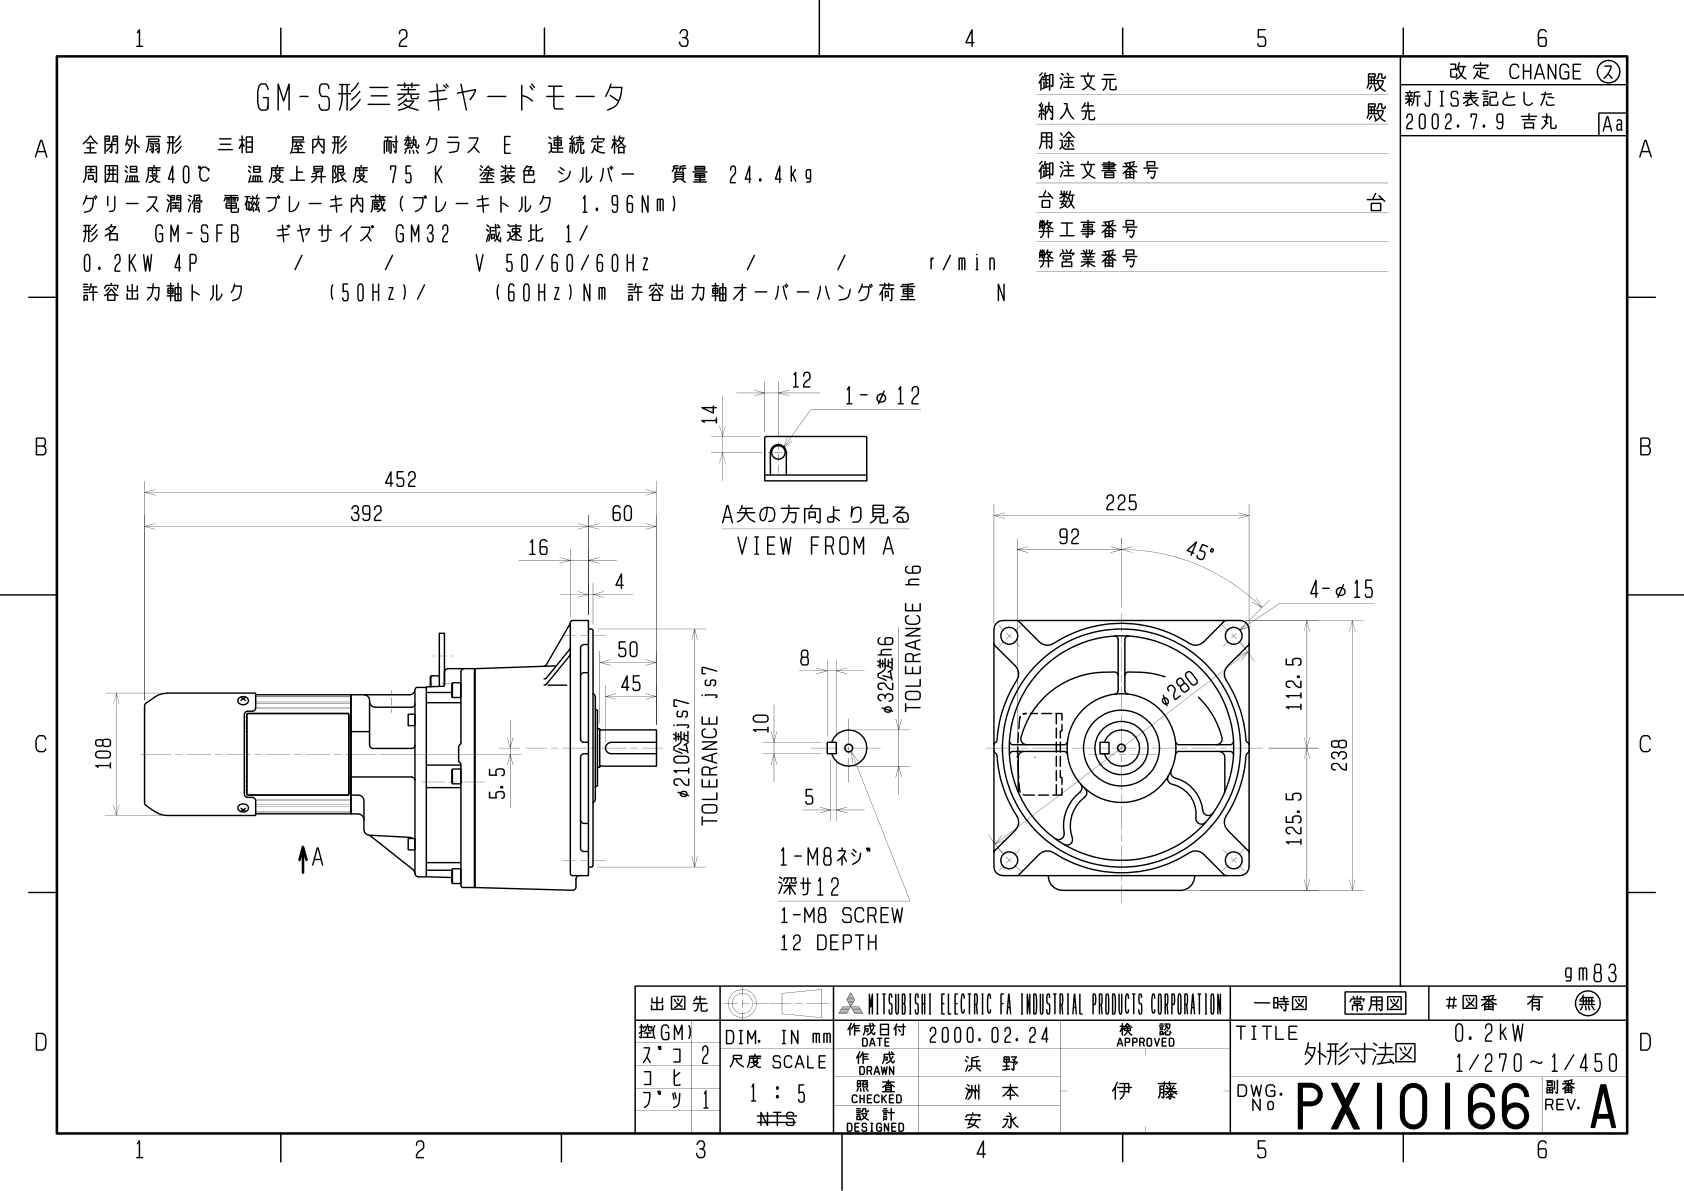GM_S_屋内＿三相_フランジ: (77, 357, 1383, 973)
